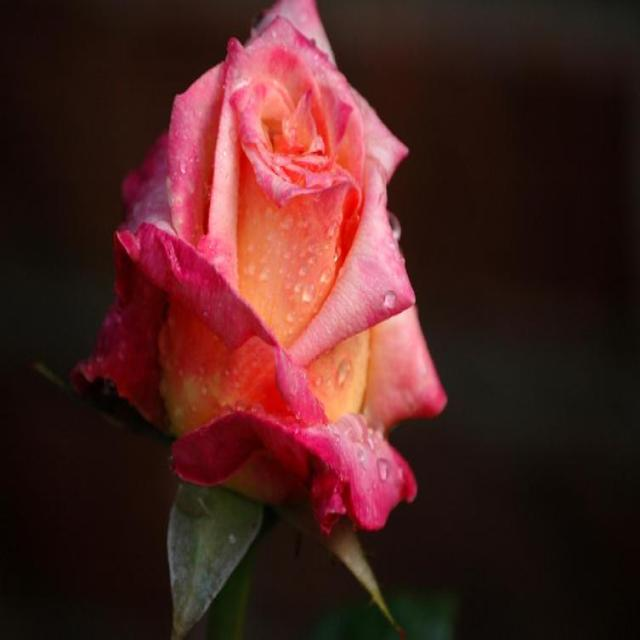rose: (75, 0, 472, 552)
